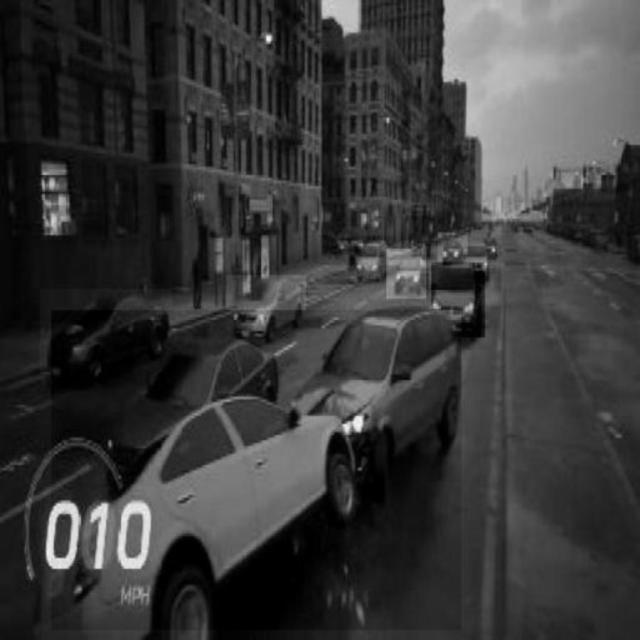accident: (51, 310, 461, 630)
vehicle: (113, 335, 283, 448), (40, 289, 172, 373), (226, 276, 306, 337), (431, 263, 485, 337), (348, 237, 395, 284), (387, 249, 427, 299), (438, 233, 468, 261)
